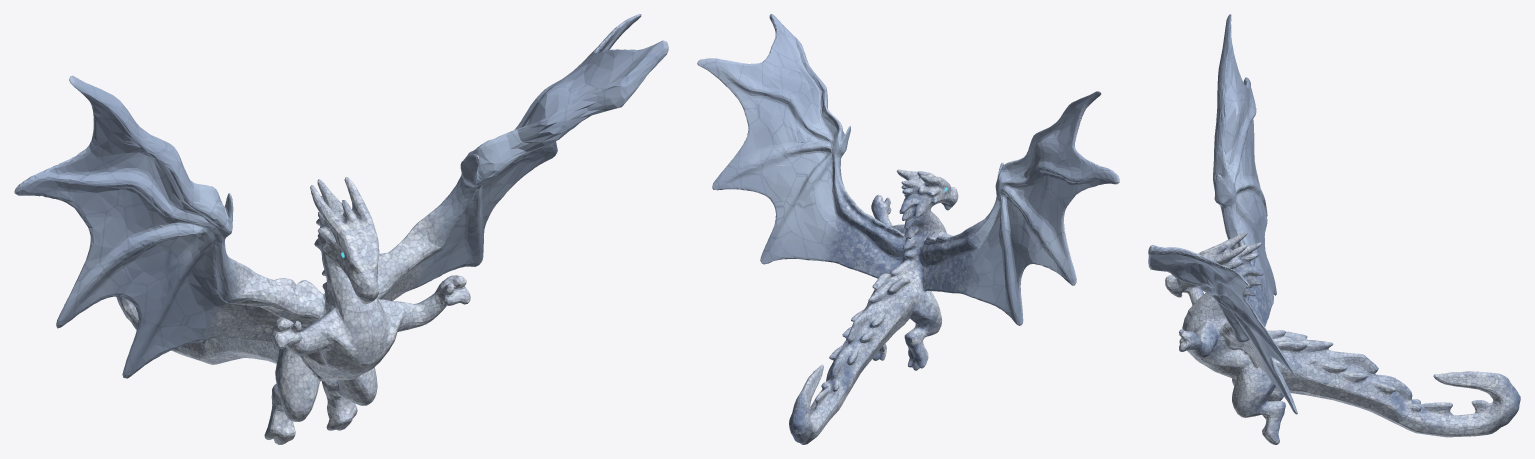
Rendered from dragon-hero-lite.glb.
3 renders of one model, left to right at view 1: azimuth 30°, elevation 25°; view 2: azimuth 150°, elevation 25°; view 3: azimuth 270°, elevation 25°, orthographic. The views are drawn at different scales.
Parts seen in each view (by area): view 1: HeroDragonMesh; view 2: HeroDragonMesh; view 3: HeroDragonMesh.
Part boxes in pixels (left/top/right/bottom): HeroDragonMesh: left=14, top=14, right=668, bottom=444; HeroDragonMesh: left=697, top=14, right=1119, bottom=444; HeroDragonMesh: left=1148, top=14, right=1520, bottom=444.
Bounding box in the file's own units: 1.83 × 1.27 × 1.31.
Materials: 4 (3 with a texture image).
